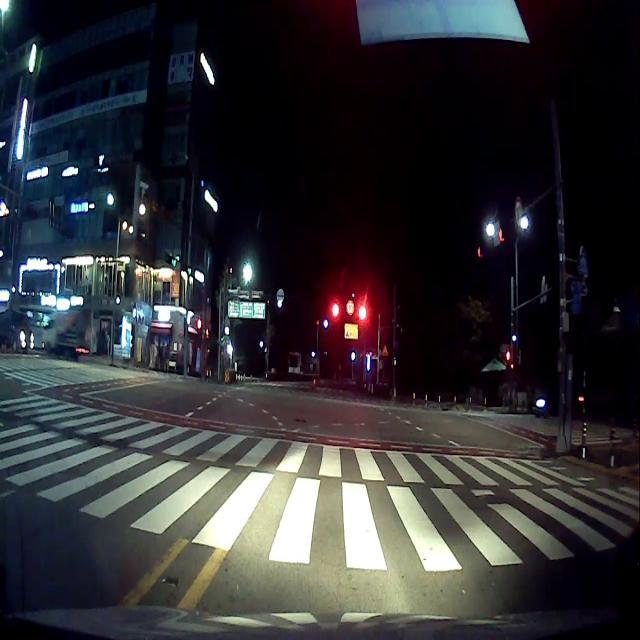crosswalk: (0, 393, 640, 575), (0, 358, 164, 391), (472, 415, 639, 445)
